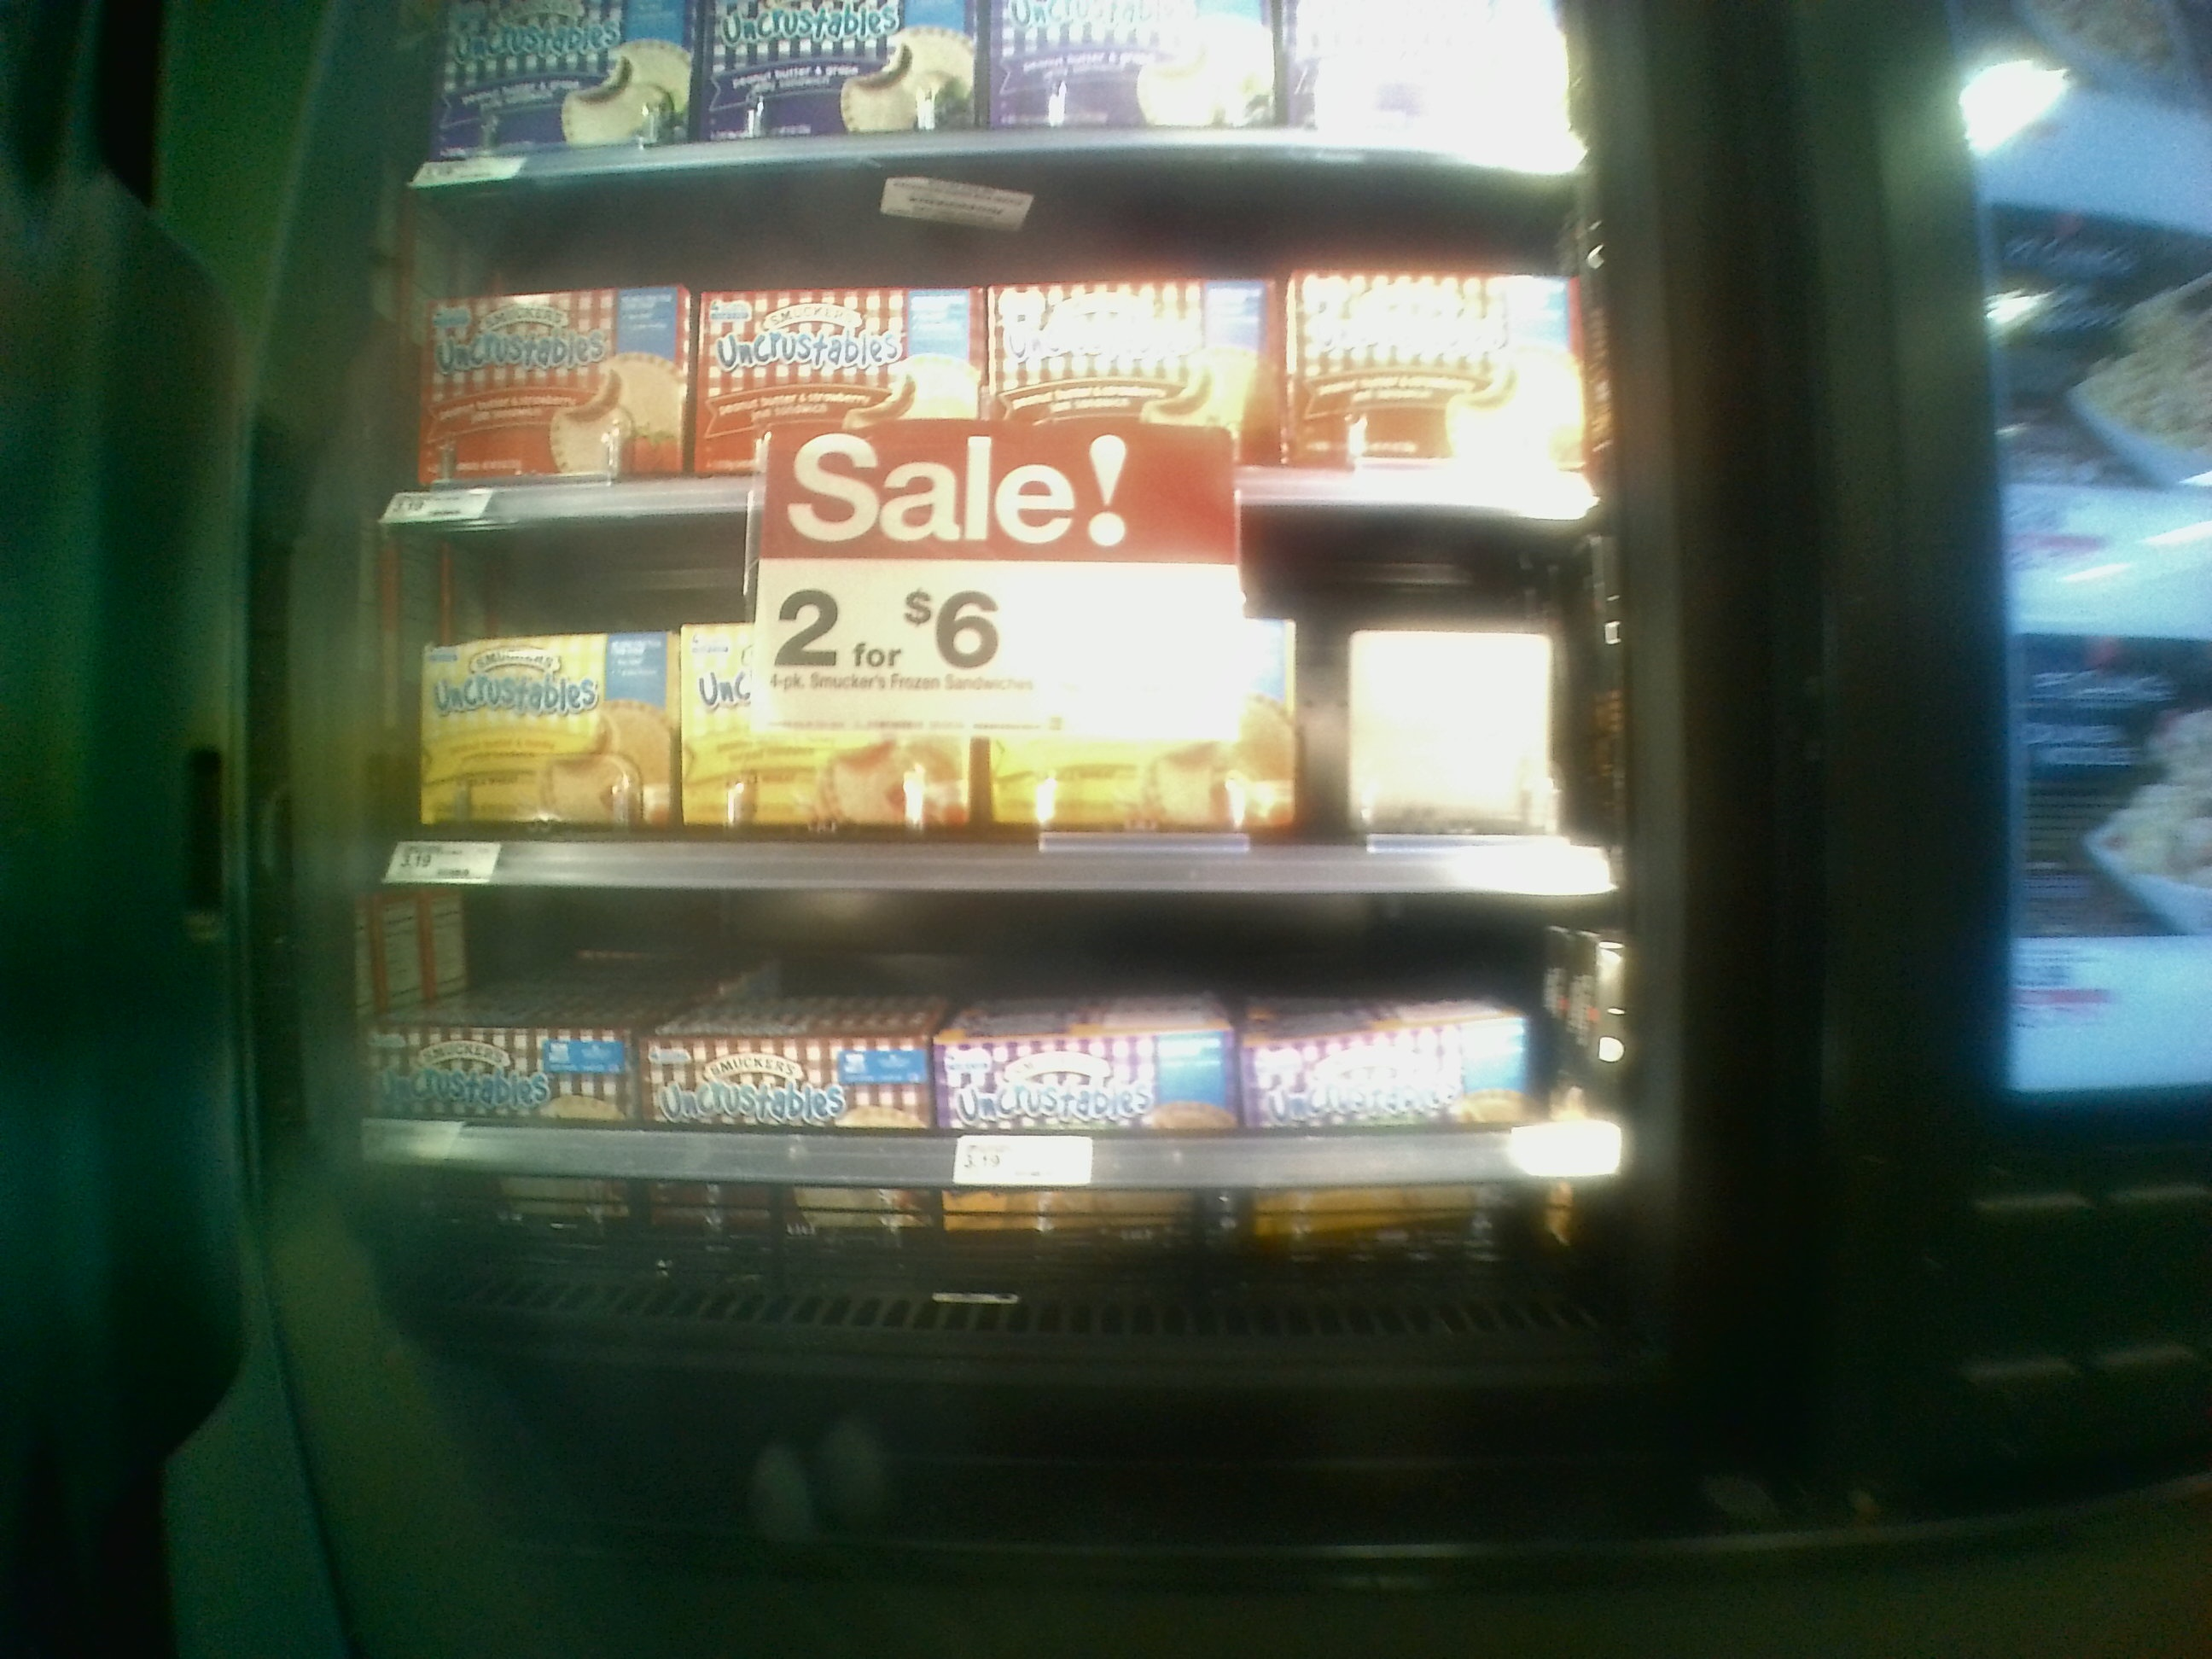shelf: (371, 849, 1651, 1330), (388, 504, 1615, 894), (392, 167, 1597, 512)
